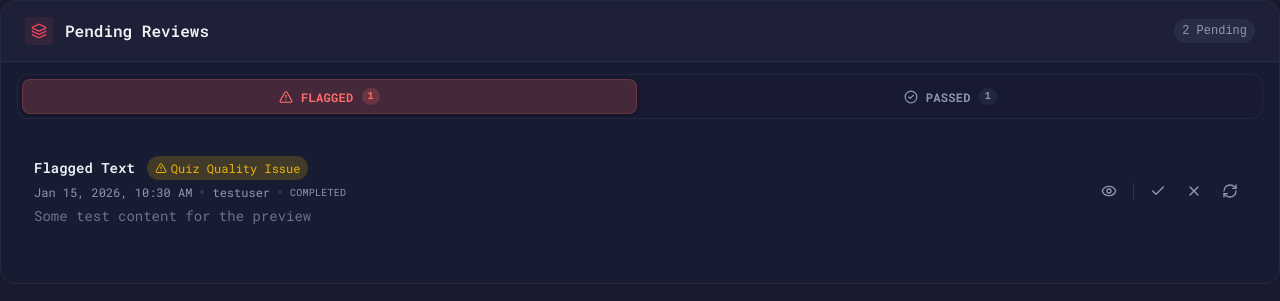
ApprovalsList › tab switching › should show passed texts when clicking passed tab
Click the button "Passed 1". click: [950, 97]
box: [643,79,1258,114]
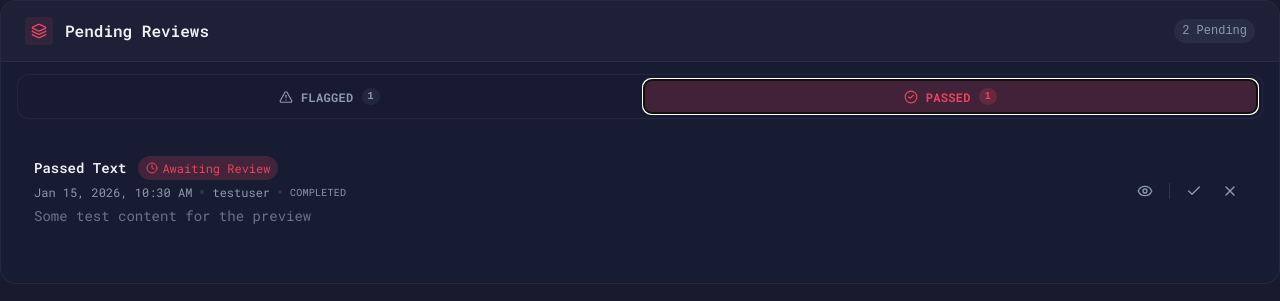
Now the heading "Passed Text" is shown, box [34,158,126,178]
Now the heading "Flagged Text" is gone
